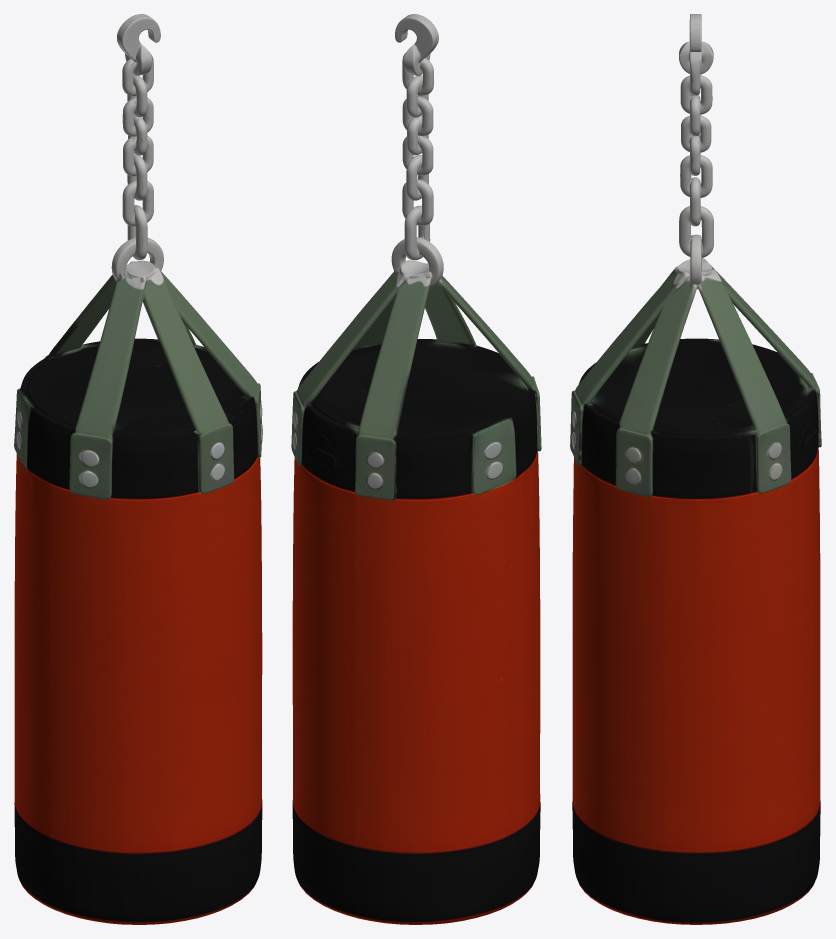
The model's file is heavy_bag_short__hunyuan.glb.
The picture shows the model from 3 angles, left to right: view 1: azimuth 30°, elevation 25°; view 2: azimuth 150°, elevation 25°; view 3: azimuth 270°, elevation 25°; orthographic projection.
Visible parts, largest first — view 1: material; view 2: material; view 3: material.
Boxes of the visible parts, x1,y1,x2,y2 form: material: (14, 14, 262, 924); material: (291, 14, 541, 924); material: (570, 14, 821, 924).
Size of the model in its own units: 0.3065 by 1.18 by 0.3114.
Materials: 1 (1 with a texture image).
